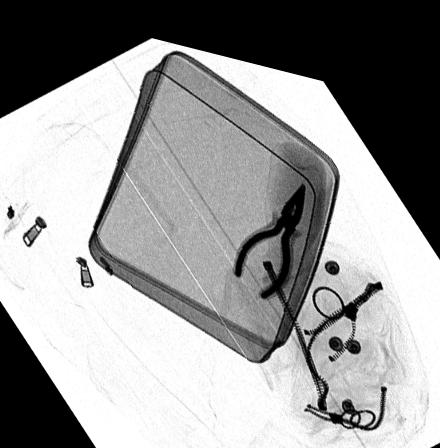Pliers: (232, 164, 305, 289)
